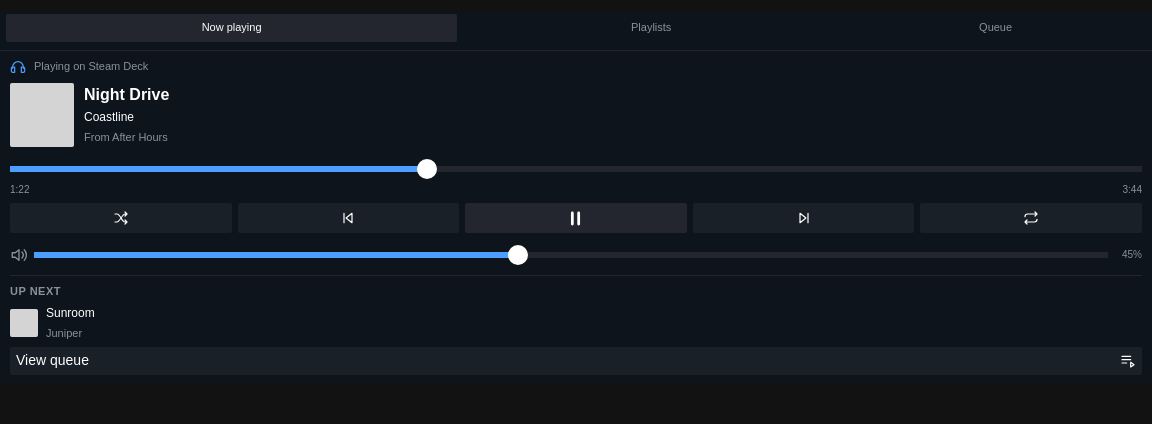
shared player UI › keeps the previously shown tracks when reopening cannot update them
The width and height of the screenshot is (1152, 424).
Click the button "Playlists" at (651, 28), box left=463, top=14, right=839, bottom=42
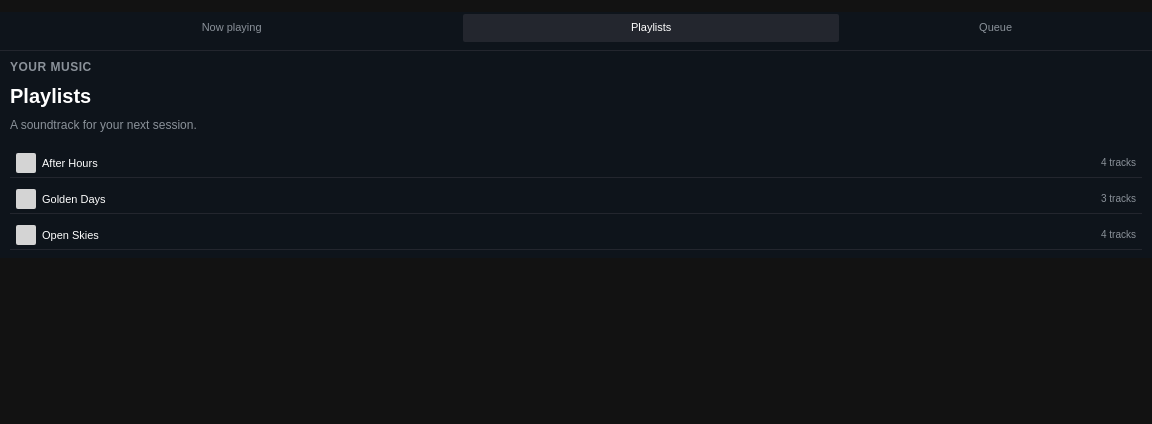
Click the button with aria-label "Open Golden Days" at (74, 199), box left=10, top=186, right=1142, bottom=214
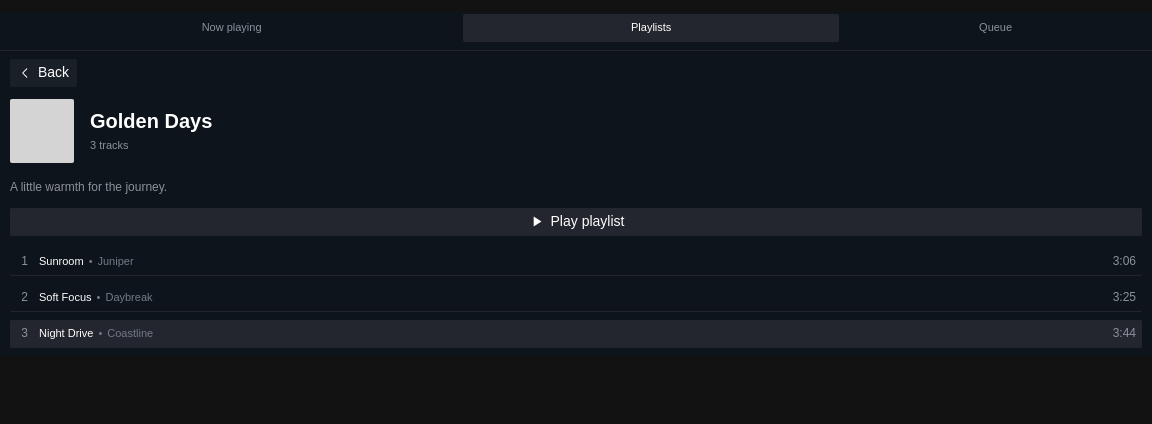
Expected: the button with aria-label "Play Soft Focus" is shown, left=10, top=284, right=1142, bottom=312
Click the button "Back" at (44, 73), box left=10, top=59, right=77, bottom=87
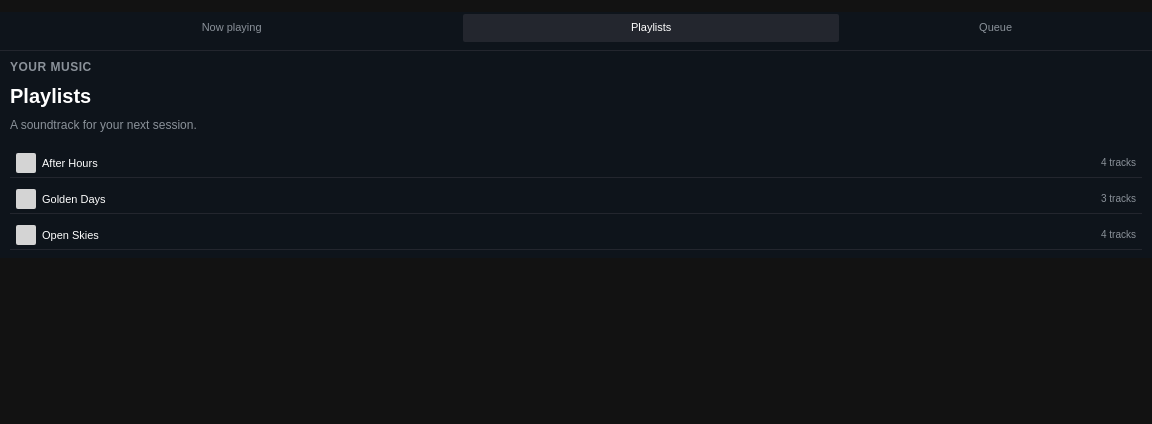
Click the button with aria-label "Open Golden Days" at (74, 199), box left=10, top=186, right=1142, bottom=214
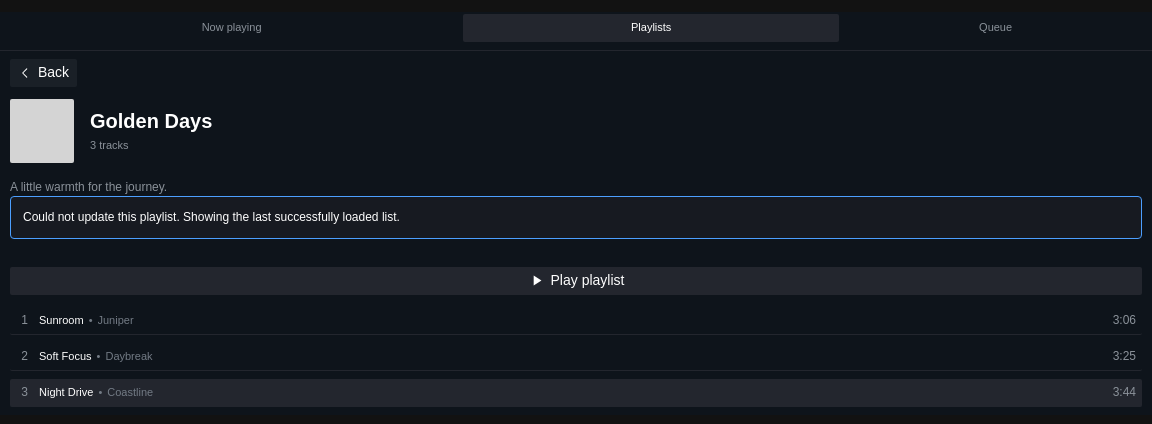
Expected: the message reads "Could not update this playlist. Showing the last successfully loaded list.", left=23, top=210, right=400, bottom=224
Expected: the button with aria-label "Play Soft Focus" is shown, left=10, top=343, right=1142, bottom=371
